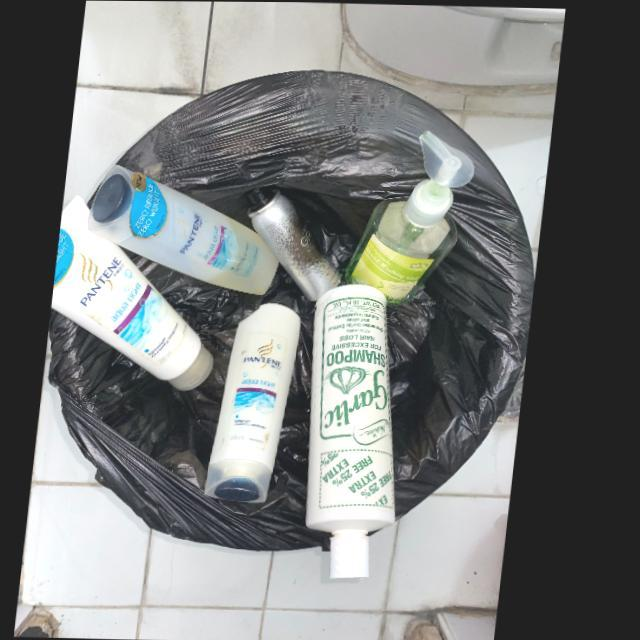metal: (251, 187, 347, 300)
plastic: (57, 193, 221, 390), (315, 280, 406, 578), (93, 163, 285, 294), (350, 129, 478, 306), (214, 301, 307, 502)
